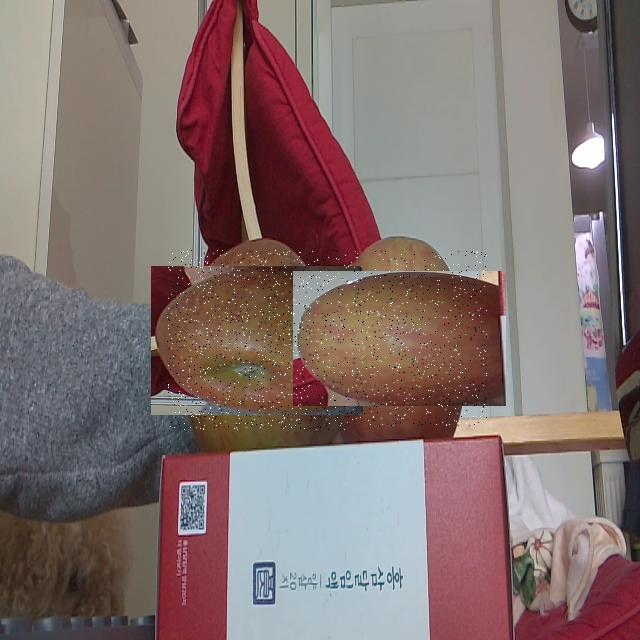apple: (167, 250, 347, 430), (313, 251, 487, 426)
